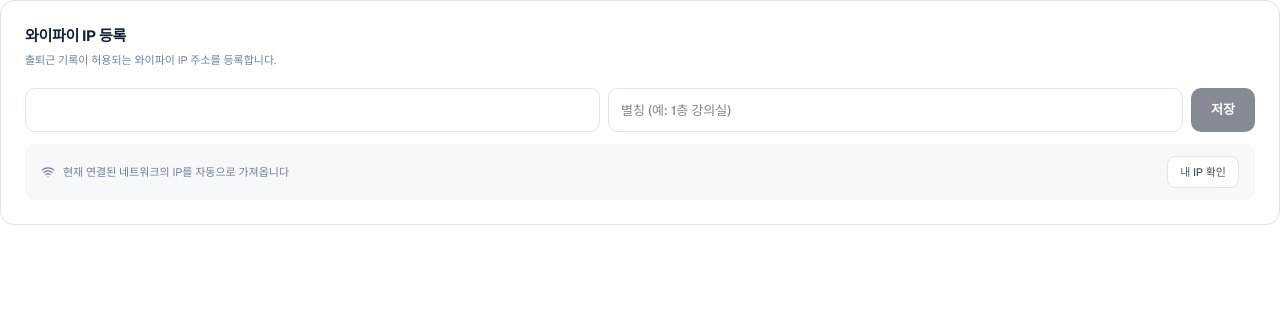
Test: SettingWifi › 이 IP로 등록을 클릭하면 입력창에 확인된 IP가 채워진다
Click the button "내 IP 확인": (1203, 172) top-left (1167, 156), bottom-right (1239, 188)
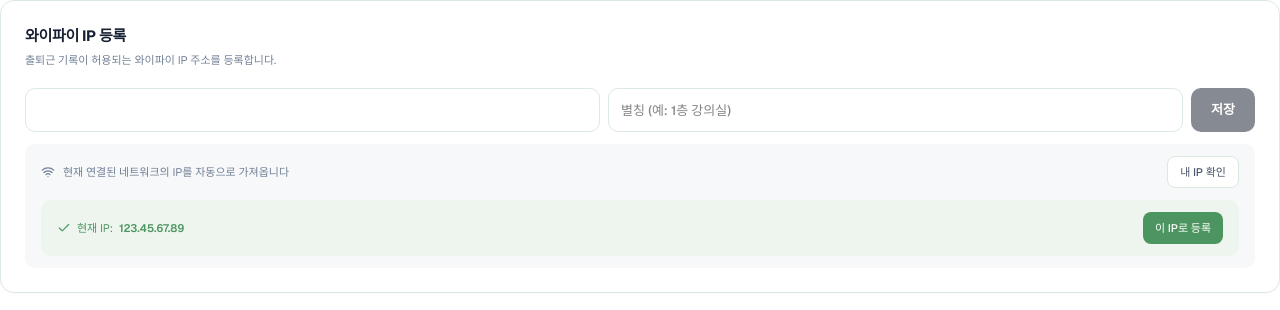
Check: the text "123.45.67.89" is shown, box top-left (119, 220), bottom-right (184, 236)
Click the button "이 IP로 등록": (1183, 228) top-left (1143, 212), bottom-right (1223, 244)
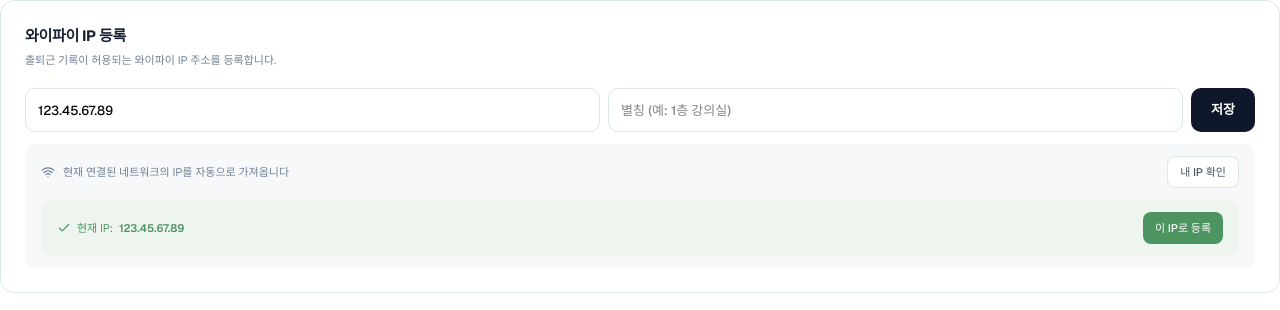
Check: the field named "와이파이 IP 주소" holds "123.45.67.89", box top-left (25, 88), bottom-right (600, 132)
